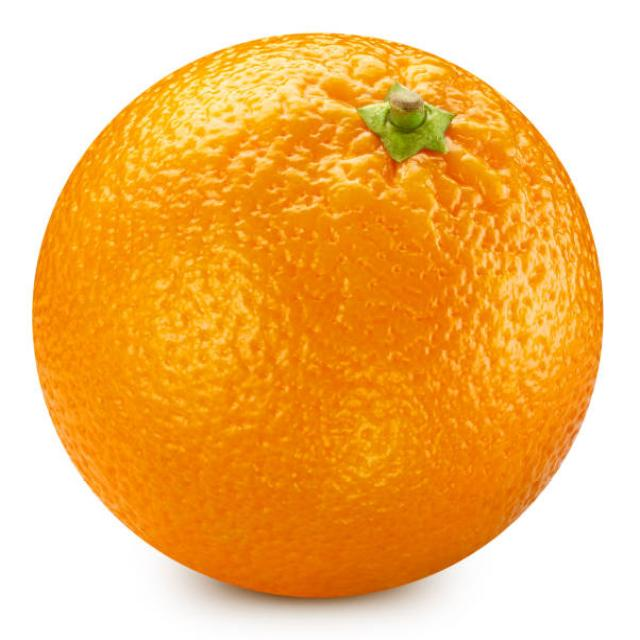Ripe: (25, 24, 613, 603)
